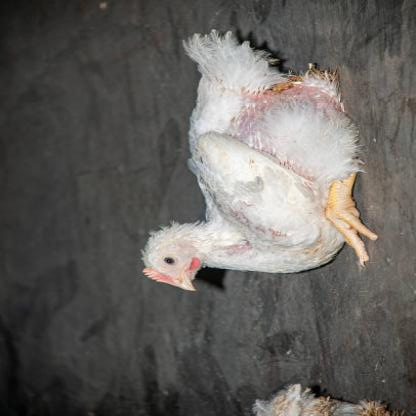Unhealthy: (135, 21, 391, 298)
